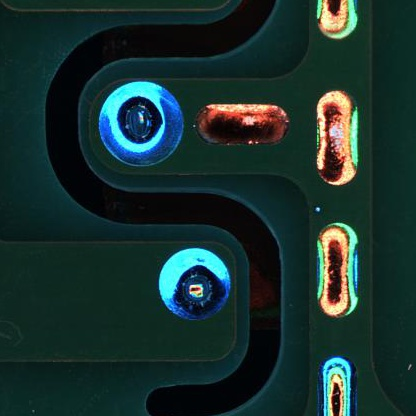spot: (91, 80, 193, 174), (154, 236, 235, 330)
